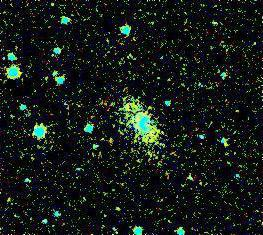star: (217, 125, 247, 155)
